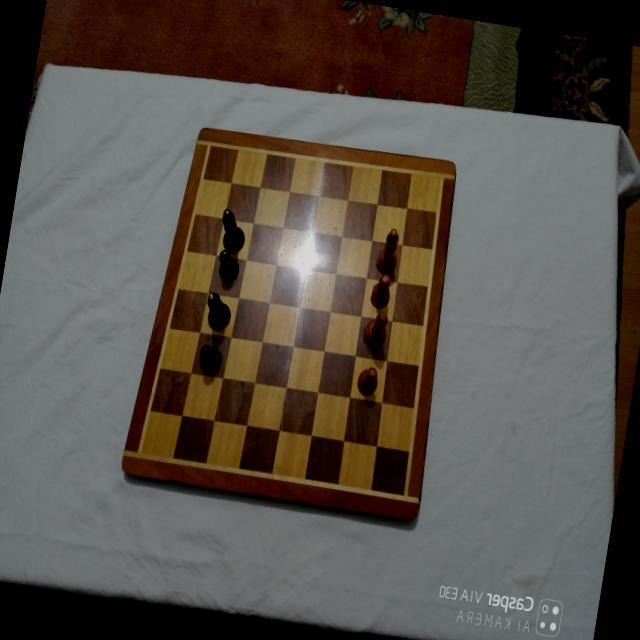black-bishop: (217, 207, 250, 255), (202, 290, 234, 334)
black-pawn: (215, 248, 243, 284), (197, 342, 225, 377)
white-bishop: (374, 226, 402, 276), (361, 309, 391, 351)
white-pawn: (369, 271, 394, 310), (355, 365, 380, 398)
